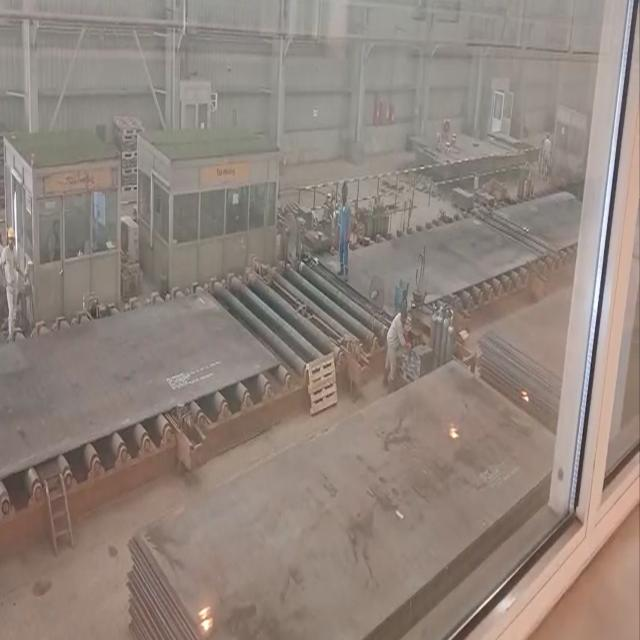warningzone: (213, 257, 393, 382)
